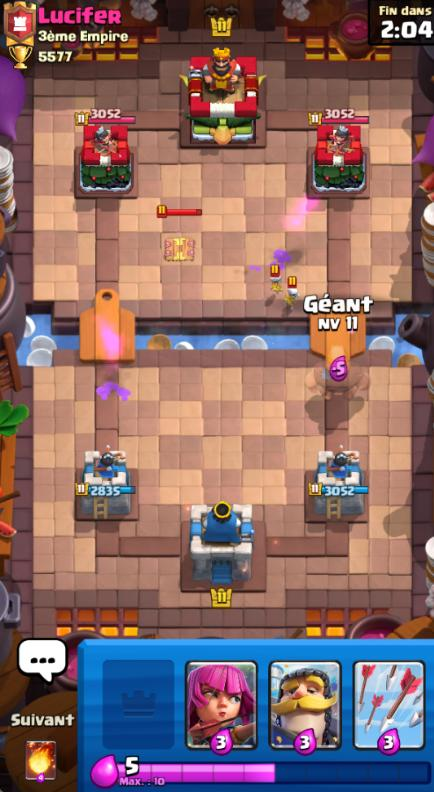geant: (306, 344, 371, 399)
squelette: (283, 286, 299, 310), (270, 273, 283, 296)
